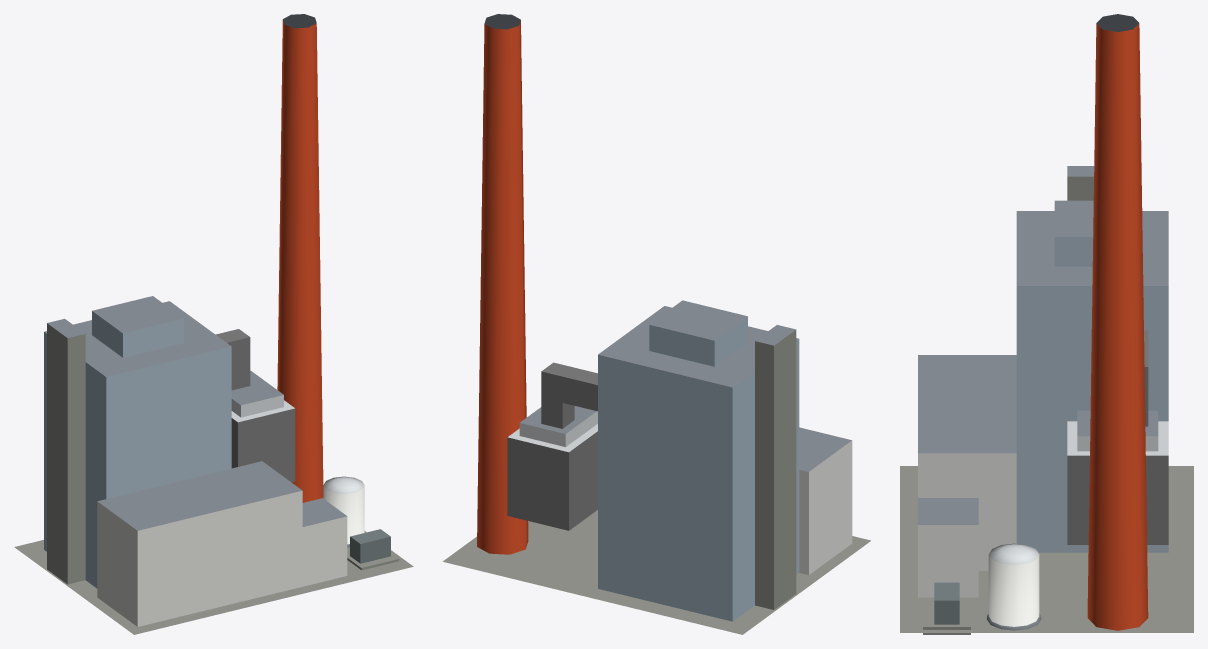
Rendered from mashup-main-far.fbx.
3 views of the same model, side by side, from view 1: azimuth 30°, elevation 25°; view 2: azimuth 150°, elevation 25°; view 3: azimuth 270°, elevation 25° (orthographic). The views are drawn at different scales.
Parts seen in each view (by area): view 1: a1056/0/mashup-main-far; view 2: a1056/0/mashup-main-far; view 3: a1056/0/mashup-main-far.
Part boxes in pixels (<box>): a1056/0/mashup-main-far: <box>14,14,413,634</box>; a1056/0/mashup-main-far: <box>442,14,870,634</box>; a1056/0/mashup-main-far: <box>900,14,1193,634</box>.
Bounding box in the file's own units: 31.2 × 52.3 × 23.2.
